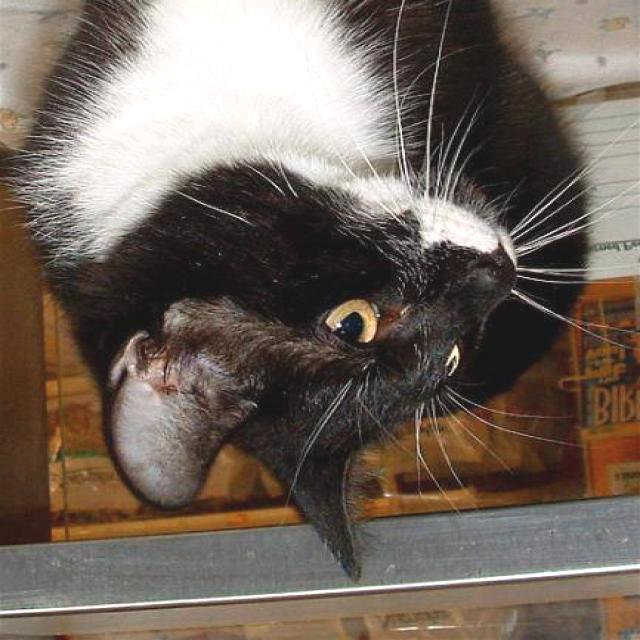Kucing: (12, 0, 640, 590)
